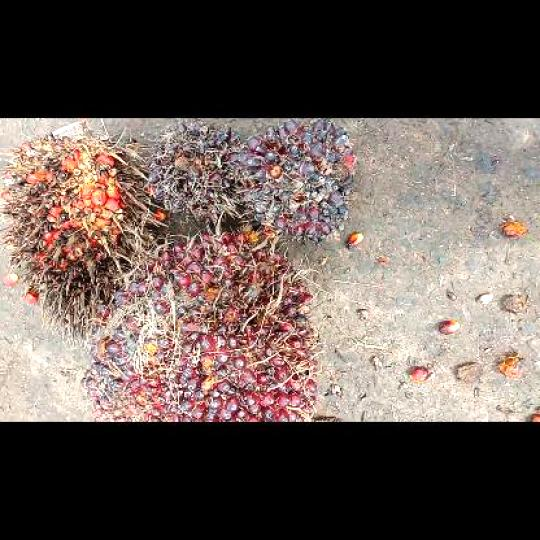masak: (79, 228, 321, 421)
terlalu masak: (0, 132, 170, 351)
